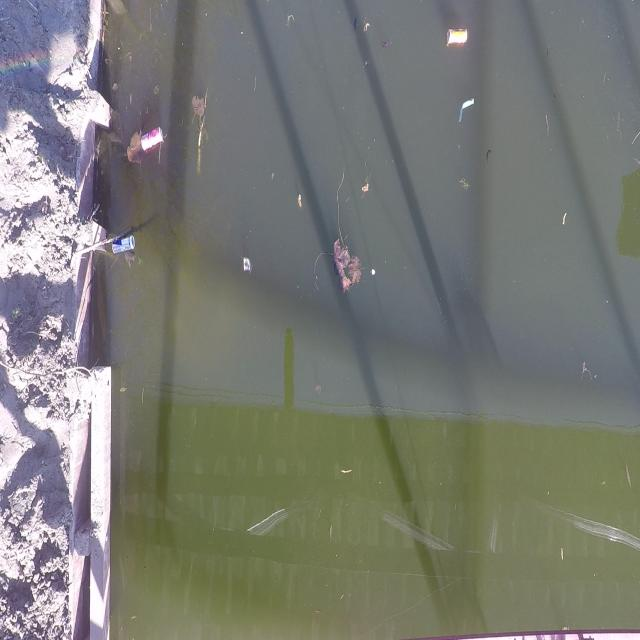Non plastique: (142, 128, 163, 149), (112, 235, 134, 254), (447, 28, 467, 44)
